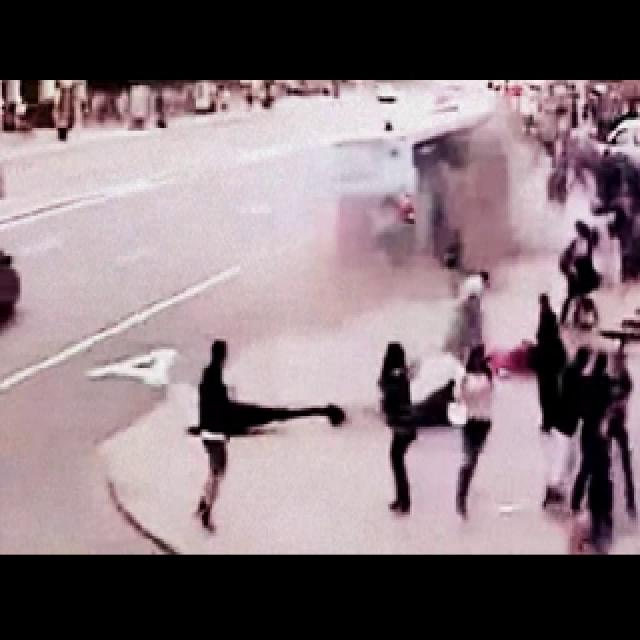road accidents: (276, 60, 599, 474)
